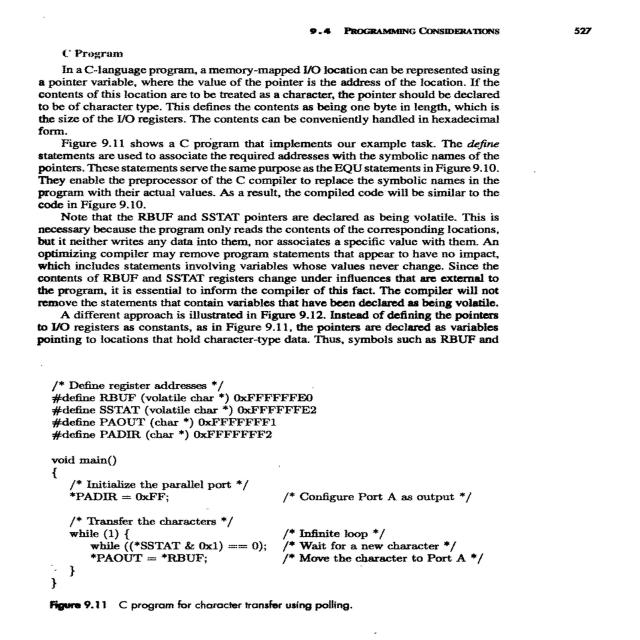diagram: (22, 365, 640, 640)
